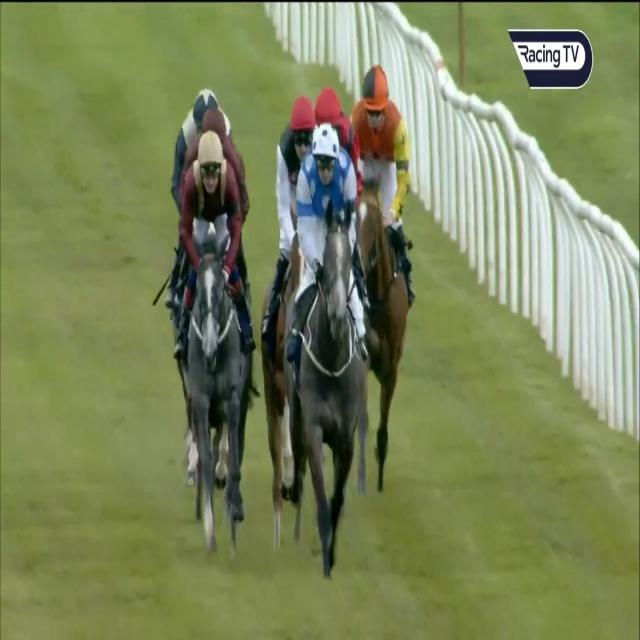horses-racing: (280, 107, 378, 554), (347, 61, 438, 510), (166, 131, 262, 546), (148, 77, 229, 197), (310, 70, 370, 220), (180, 106, 258, 215), (273, 85, 316, 269)
